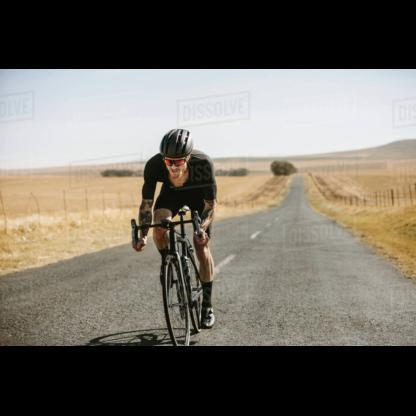Bicycle: (112, 204, 232, 342)
